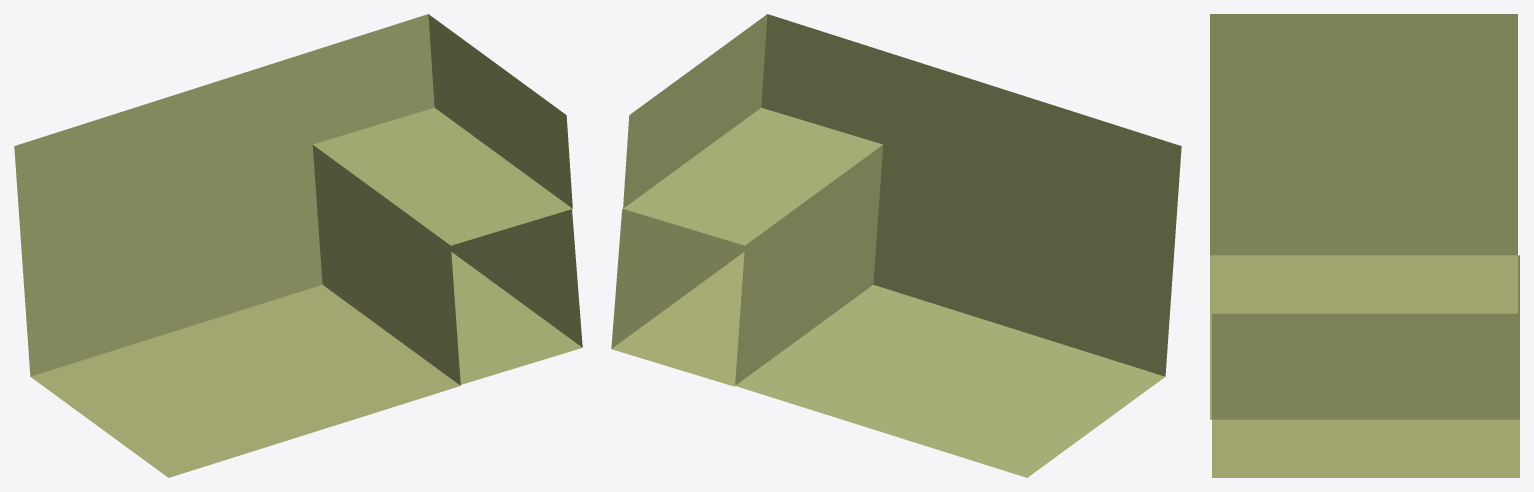
3 renders of one model, left to right at view 1: azimuth 30°, elevation 25°; view 2: azimuth 150°, elevation 25°; view 3: azimuth 270°, elevation 25°, orthographic. The views are drawn at different scales.
Visible parts, largest first — view 1: 0_1_1_3_3_1_2_0_0_0_3; view 2: 0_1_1_3_3_1_2_0_0_0_3; view 3: 0_1_1_3_3_1_2_0_0_0_3.
Boxes of the visible parts, x1=… form: 0_1_1_3_3_1_2_0_0_0_3: x1=14, y1=14, x2=582, y2=477; 0_1_1_3_3_1_2_0_0_0_3: x1=611, y1=14, x2=1181, y2=477; 0_1_1_3_3_1_2_0_0_0_3: x1=1210, y1=14, x2=1519, y2=477.
Size of the model in its own units: 10.8 by 6.36 by 6.04.
